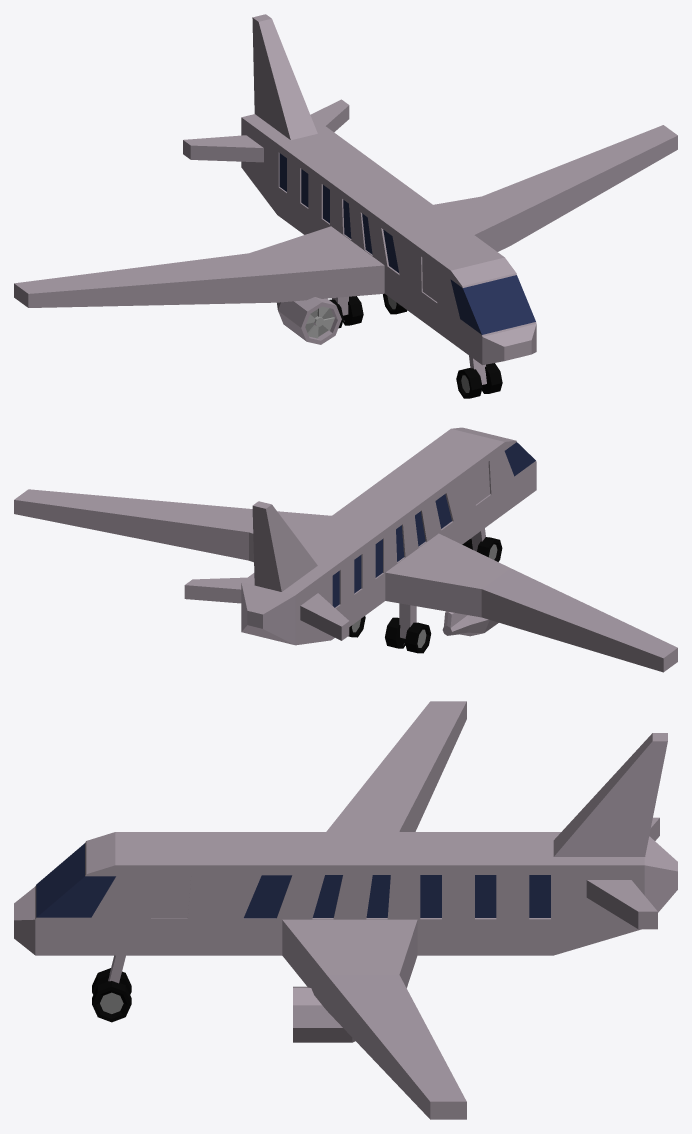
Rendered from Big plane(colour).fbx.
3 renders of one model, top to bottom at view 1: azimuth 30°, elevation 25°; view 2: azimuth 150°, elevation 25°; view 3: azimuth 270°, elevation 25°, orthographic. The views are drawn at different scales.
Visible parts, largest first — view 1: Cube, Windows, Back wings, Wheels; view 2: Cube, Back wings, Windows, Wheels; view 3: Cube, Windows, Back wings, Wheels.
Part boxes in pixels (x1,y1,x2,y2): Cube: [14, 14, 677, 384]; Windows: [279, 153, 535, 334]; Back wings: [183, 99, 349, 162]; Wheels: [329, 293, 502, 398]; Cube: [14, 427, 677, 672]; Back wings: [184, 577, 349, 640]; Windows: [332, 442, 535, 607]; Wheels: [348, 537, 502, 653]; Cube: [14, 701, 677, 1119]; Windows: [36, 843, 550, 918]; Back wings: [586, 817, 659, 929]; Wheels: [92, 968, 131, 1022].
Bounding box in the file's own units: 4800 × 1543 × 3363.
